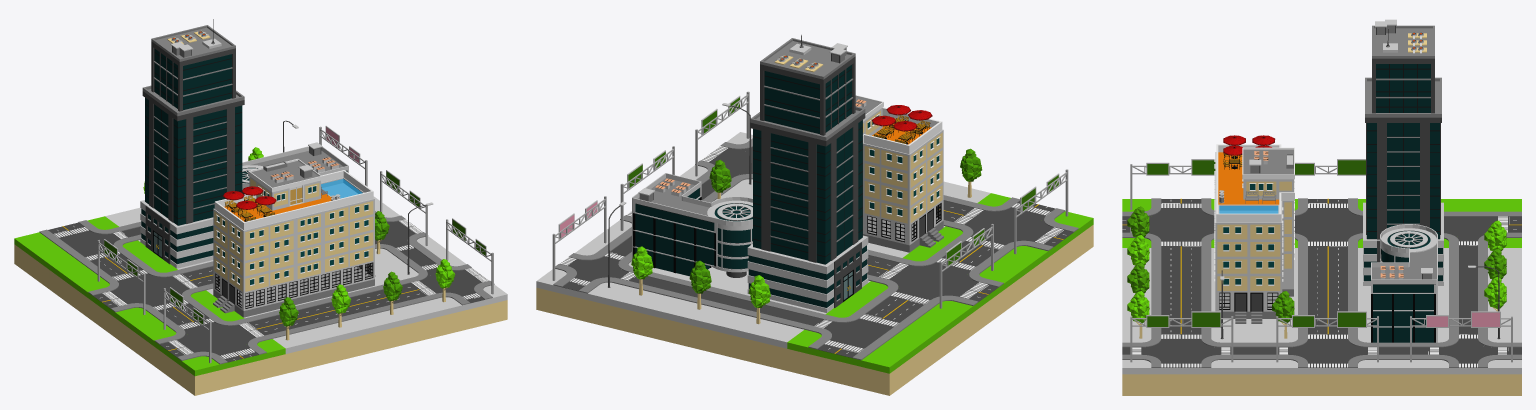
The model's file is city.glb.
3 renders of one model, left to right at view 1: azimuth 30°, elevation 25°; view 2: azimuth 150°, elevation 25°; view 3: azimuth 270°, elevation 25°, orthographic. The views are drawn at different scales.
Visible parts, largest first — view 1: box (×38); view 2: box (×43), cylinder (×2); view 3: box (×45), annulus, cylinder.
Part boxes in pixels (x1,y1,x2,y2): box (×38): (14,27,507,395); box (×43): (536,41,1093,395); cylinder (×2): (717,228,752,269); box (×45): (1122,28,1521,395); annulus: (1380,228,1436,257); cylinder: (1387,230,1430,248).
Size of the model in its own units: 400 by 318 by 400.
